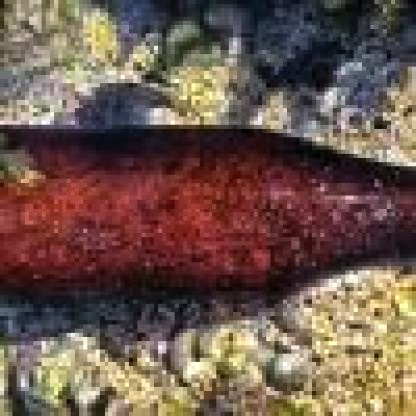gbottle: (4, 125, 416, 312)
